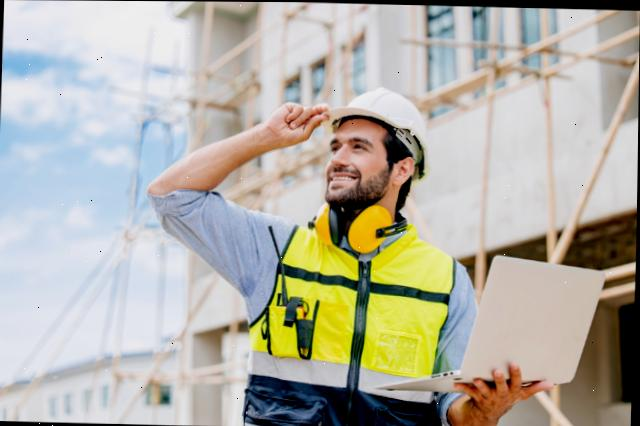helmet: (320, 81, 434, 178)
vest: (241, 206, 458, 426)
